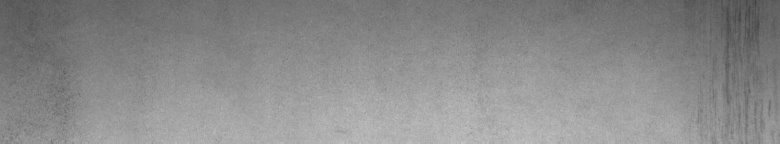ka: (718, 8, 771, 111)
